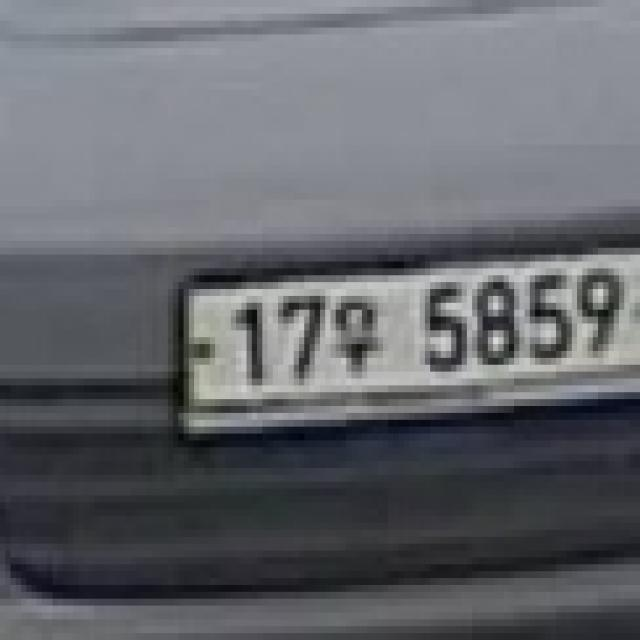1: (220, 289, 273, 413)
5: (525, 255, 577, 372), (420, 268, 472, 378)
7: (278, 282, 331, 392)
8: (472, 262, 525, 378)
9: (577, 262, 630, 364)
license_plate: (168, 234, 640, 447)
u: (331, 289, 388, 385)
